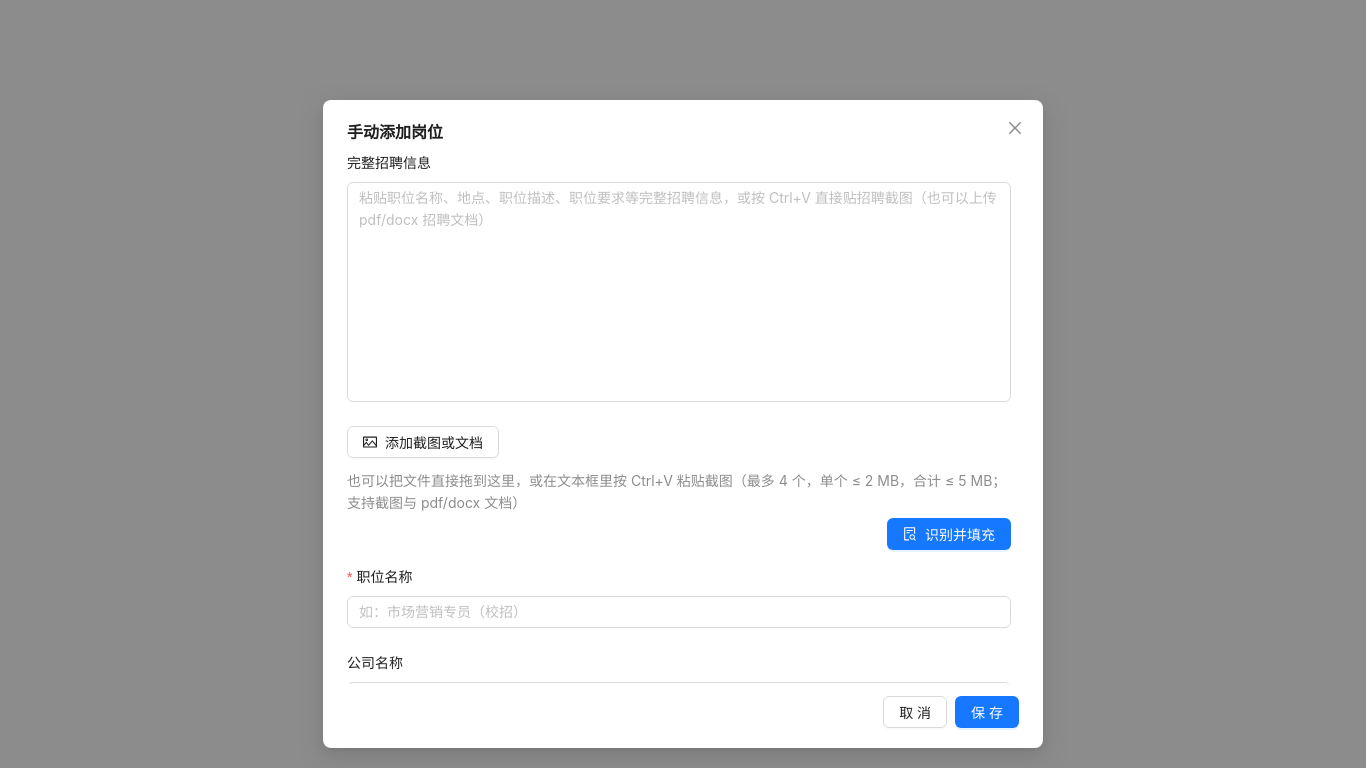
Test: JobFormModal 图片识别 › drops the source badge once the pasted text changes
Replace the text in the text box labelled "完整招聘信息" with "门店店长": (679, 292) [347,182,1011,402]
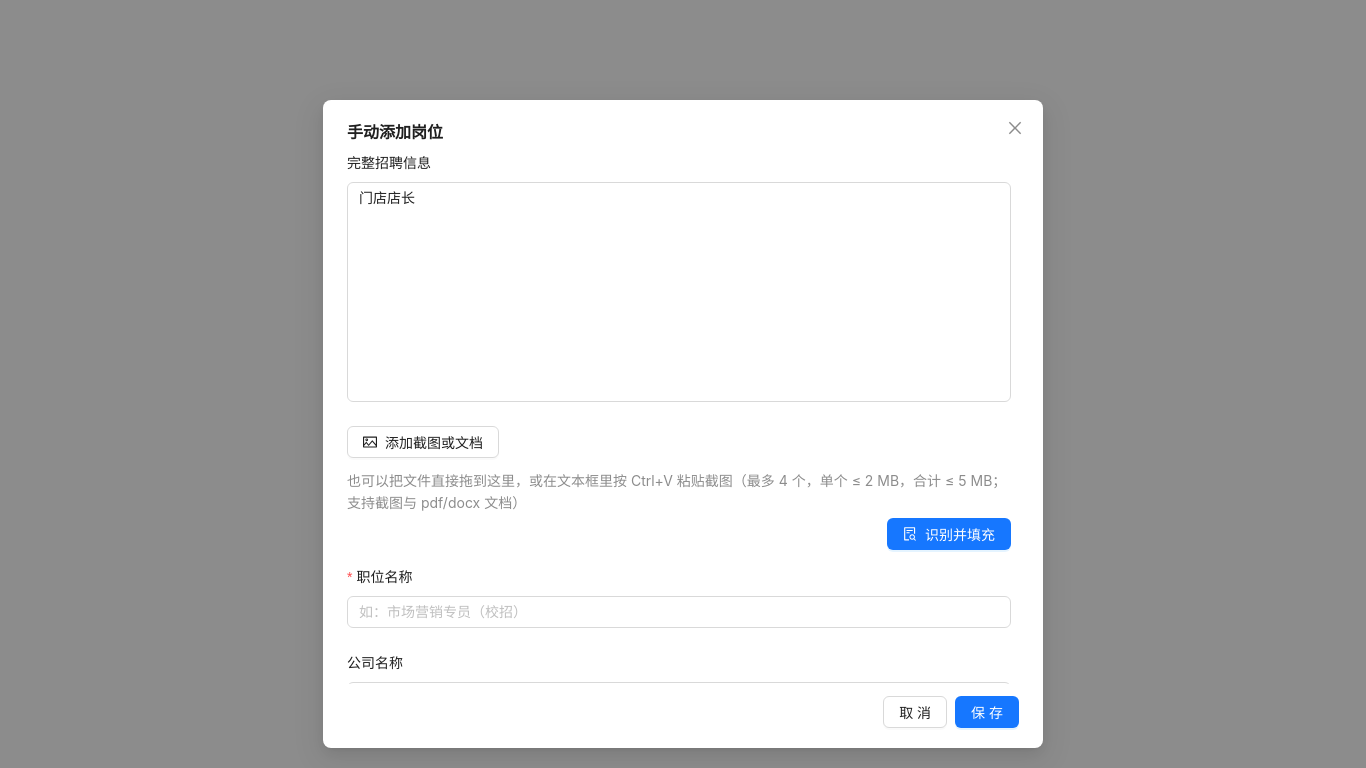
Click the button "识别并填充": (949, 534) [887,518,1011,550]
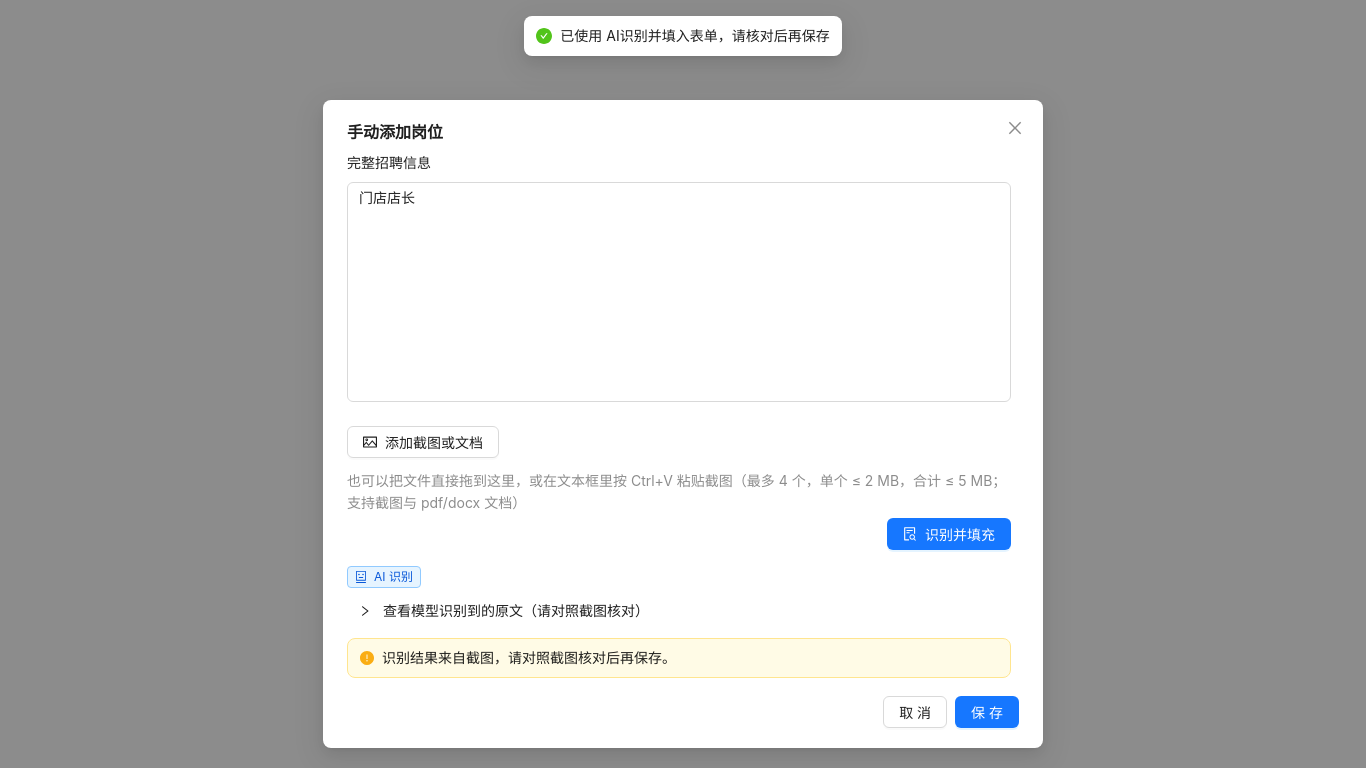
Expected: the text "AI 识别" is shown, [374,569,413,584]
Note: 换了内容，上一次识别的来源不再描述现在表单里的东西。
Replace the text in the text box named "完整招聘信息" with "另一家公司": (679, 292) [347,182,1011,402]
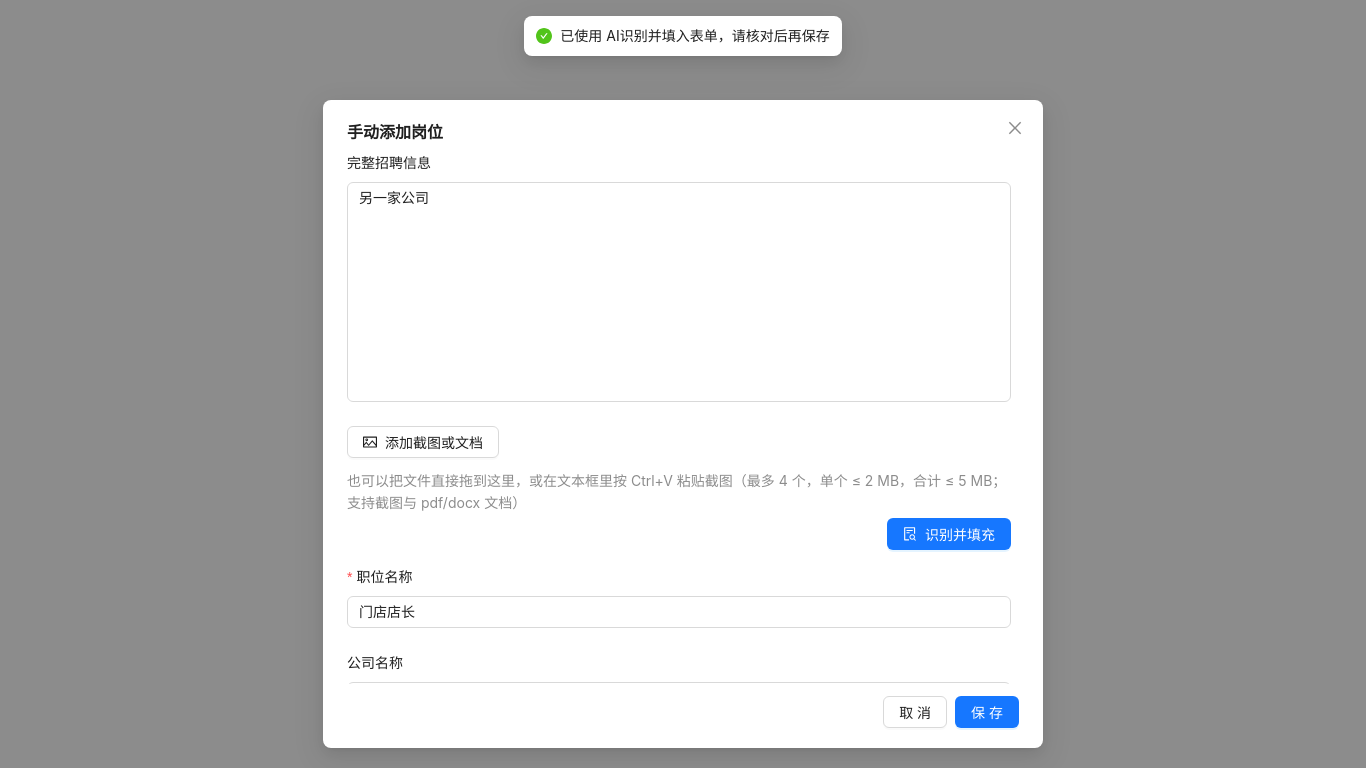
Expected: the text "AI 识别" is gone
